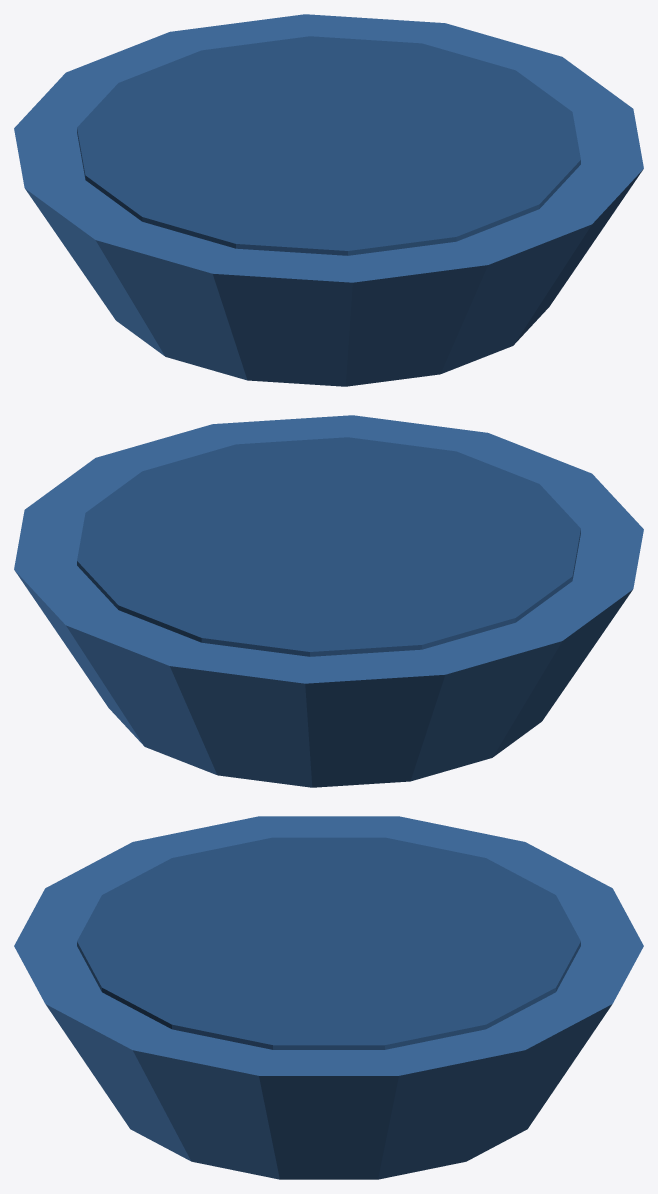
File: food_bowl.glb
3 views of the same model, one above another, from view 1: azimuth 30°, elevation 25°; view 2: azimuth 150°, elevation 25°; view 3: azimuth 270°, elevation 25° (orthographic).
Parts seen in each view (by area): view 1: food_bowl; view 2: food_bowl; view 3: food_bowl.
Boxes of the visible parts, x1,y1,x2,y2 form: food_bowl: (14,14,643,386); food_bowl: (14,415,643,787); food_bowl: (14,816,643,1179).
Size of the model in its own units: 1.17 by 0.31 by 1.2.
